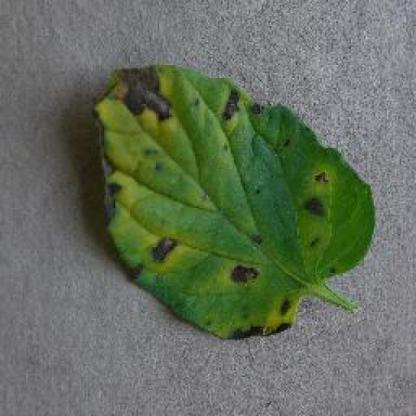Tomato_Blight: (95, 65, 374, 334)
